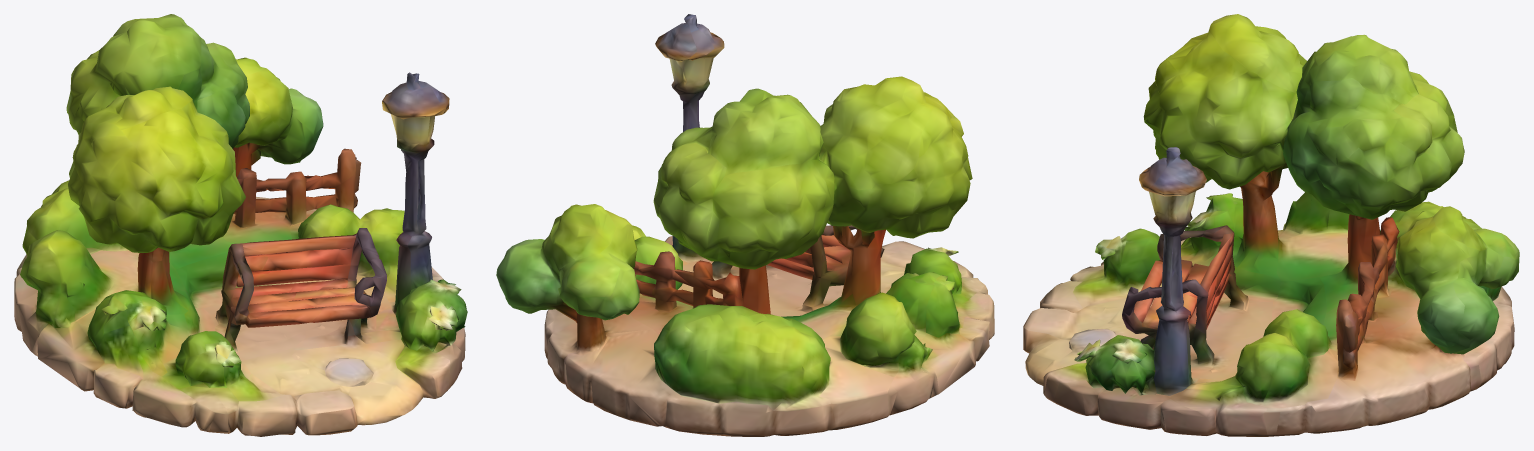
Rendered from pl_park.glb.
3 renders of one model, left to right at view 1: azimuth 30°, elevation 25°; view 2: azimuth 150°, elevation 25°; view 3: azimuth 270°, elevation 25°, orthographic.
Size of the model in its own units: 0.8653 by 0.6605 by 1.
1 material, 1 textured.
